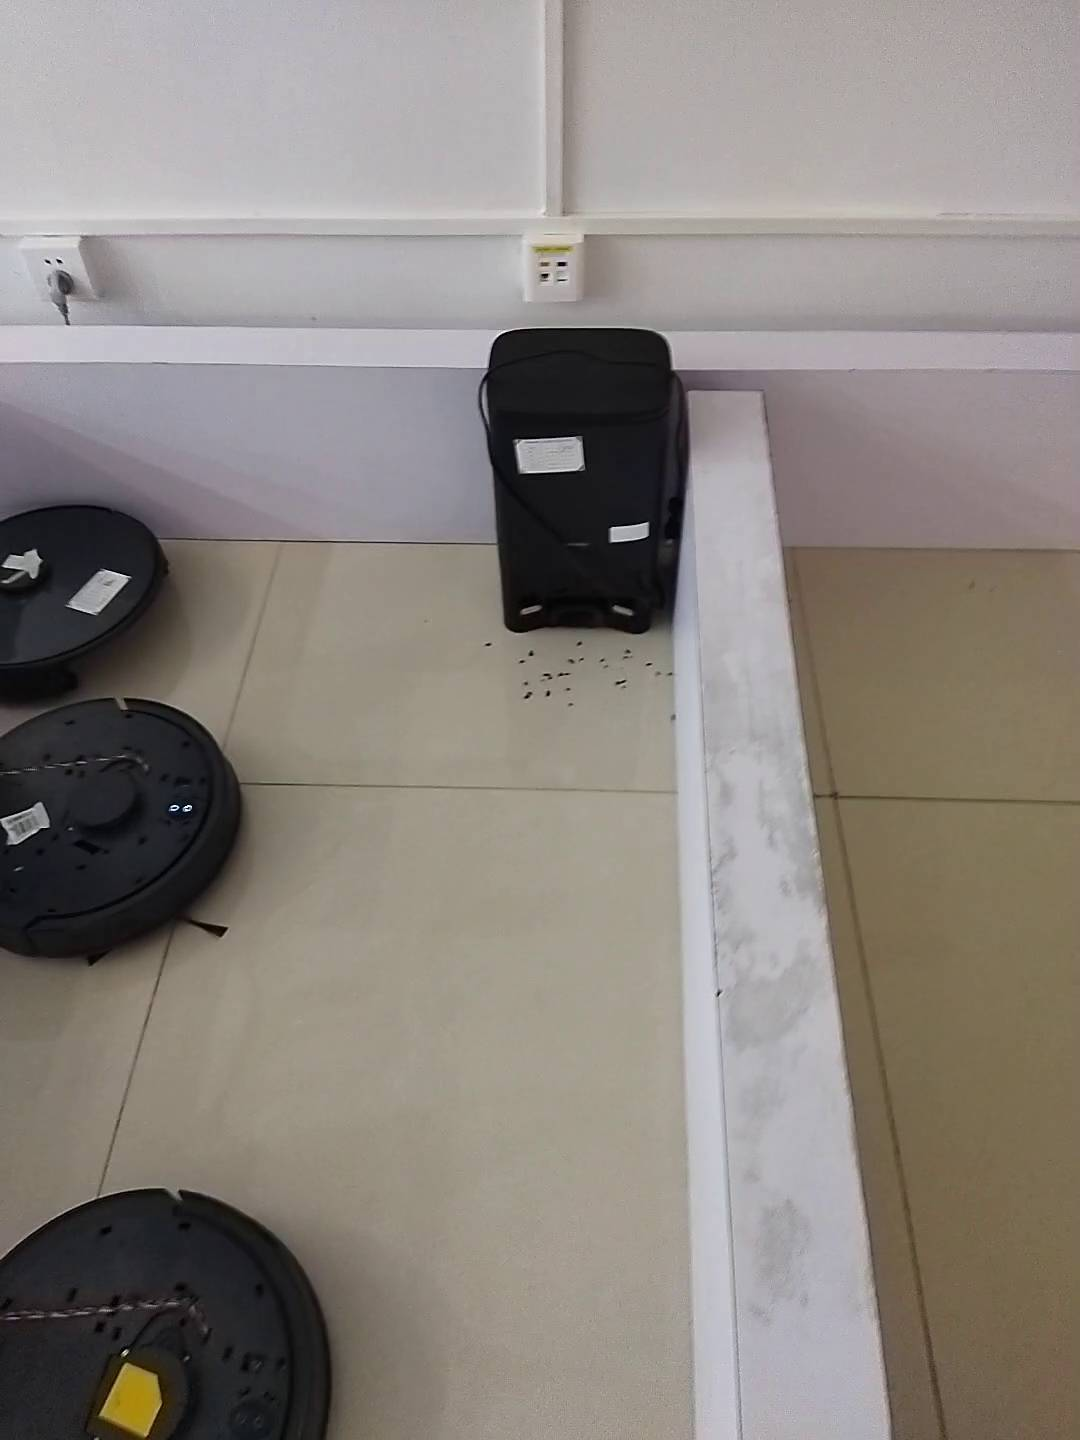dust collecting barrel: (490, 330, 670, 636)
